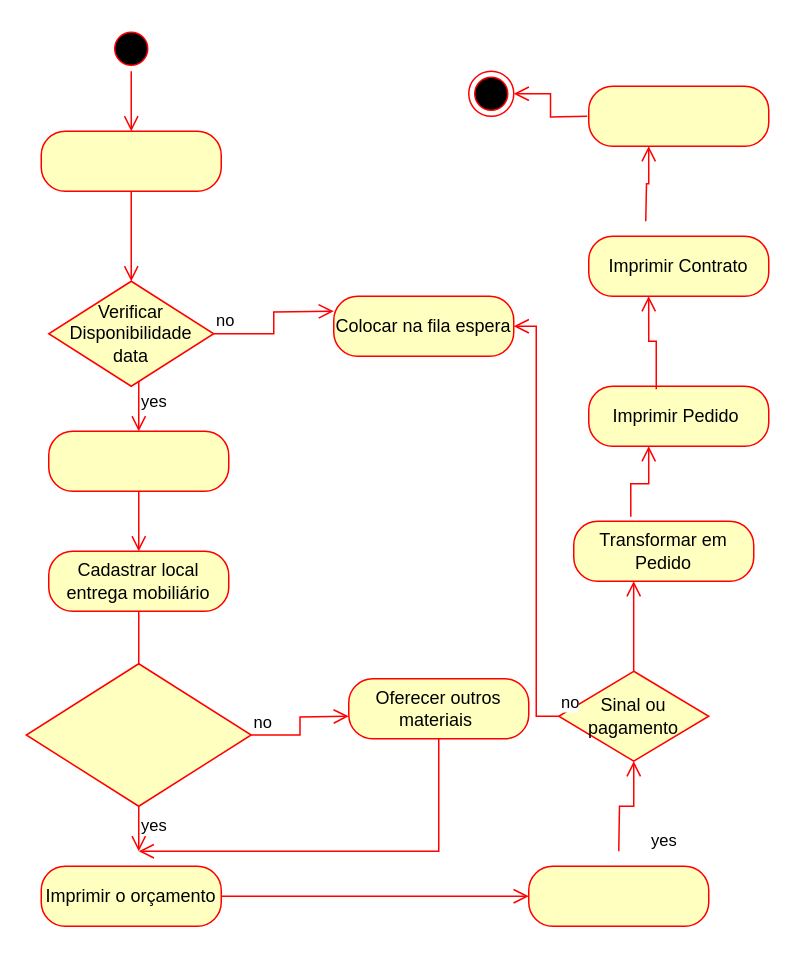
This 795x953 diagram has some shape labels left out. The centre of each missing label's shape, as x and y in pixels:
"Cadastrar cliente" goes at point 138,460.
"Enivar por email, whatsapp" goes at point 618,895.
"Gerar Relatórios mensais de locação" goes at point 678,115.
"logar sistema" goes at point 130,160.
"Verificar disponibilidade produtos" goes at point 138,734.
